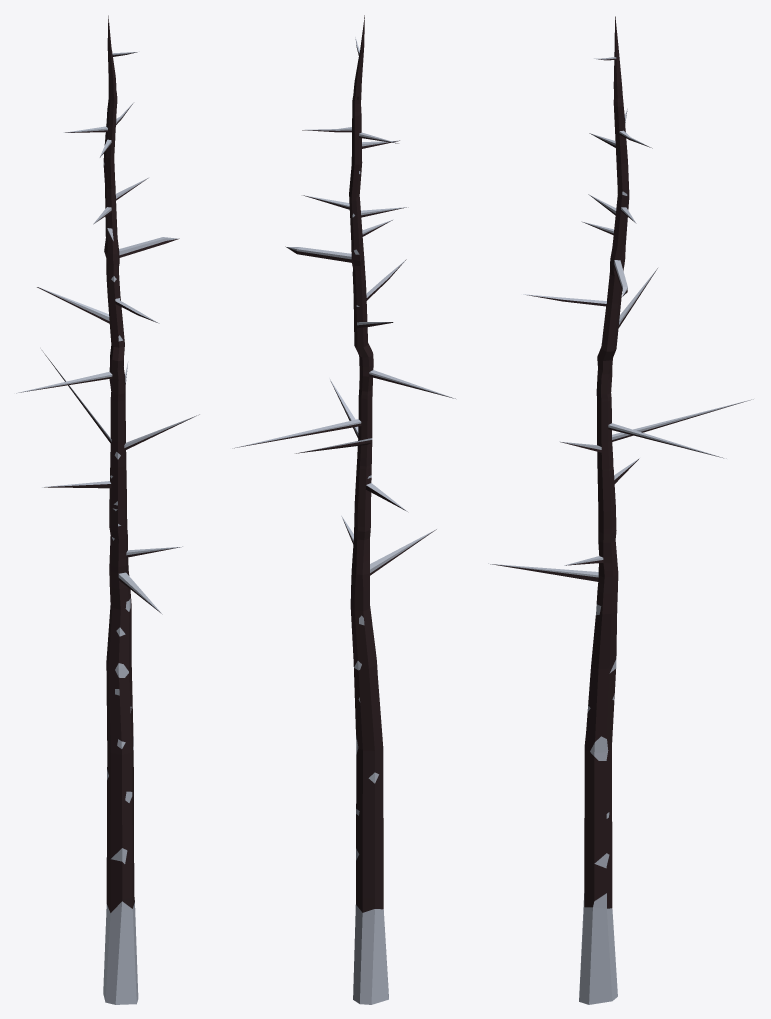
Rendered from dead_tree3.fbx.
3 renders of one model, left to right at view 1: azimuth 30°, elevation 25°; view 2: azimuth 150°, elevation 25°; view 3: azimuth 270°, elevation 25°, orthographic.
Visible parts, largest first — view 1: needly tree.2; view 2: needly tree.2; view 3: needly tree.2.
Boxes of the visible parts, x1,y1,x2,y2 form: needly tree.2: (16, 15, 199, 1004); needly tree.2: (232, 15, 456, 1004); needly tree.2: (488, 16, 753, 1004).
Size of the model in its own units: 664 by 3650 by 906.
